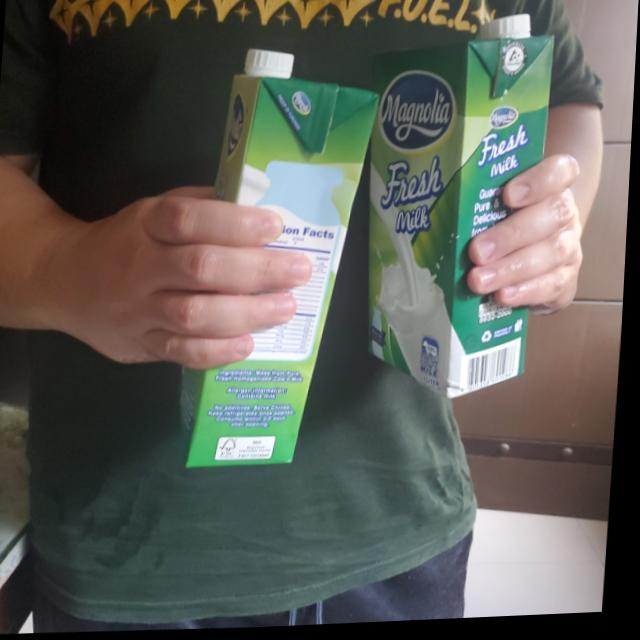milk: (185, 49, 379, 477), (354, 13, 557, 408)
